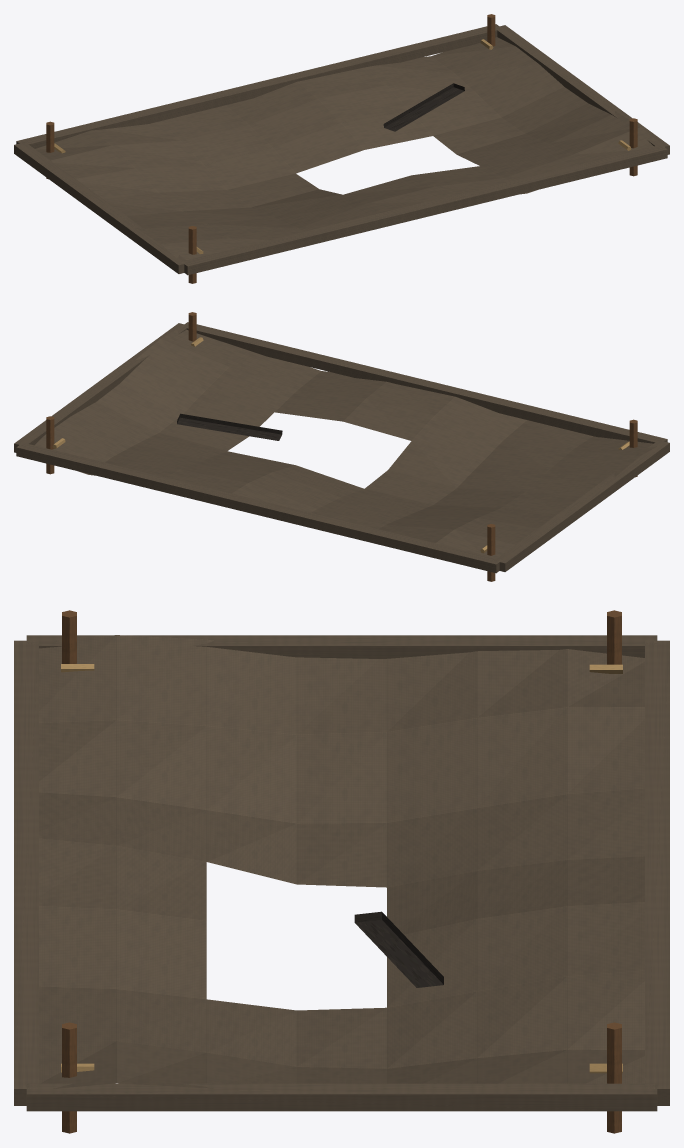
File: en-016_camp_mat_groundsheet__worn.obj
3 views of the same model, one above another, from view 1: azimuth 30°, elevation 25°; view 2: azimuth 150°, elevation 25°; view 3: azimuth 270°, elevation 25° (orthographic). The views are drawn at different scales.
Visible parts, largest first — view 1: en-016_camp_mat_groundsheet__worn; view 2: en-016_camp_mat_groundsheet__worn; view 3: en-016_camp_mat_groundsheet__worn.
Part boxes in pixels (x1,y1,x2,y2): en-016_camp_mat_groundsheet__worn: (14,14,669,283); en-016_camp_mat_groundsheet__worn: (14,312,669,581); en-016_camp_mat_groundsheet__worn: (14,610,669,1133).
Bounding box in the file's own units: 1.51 × 0.16 × 0.915.
Materials: 4 (4 with a texture image).
